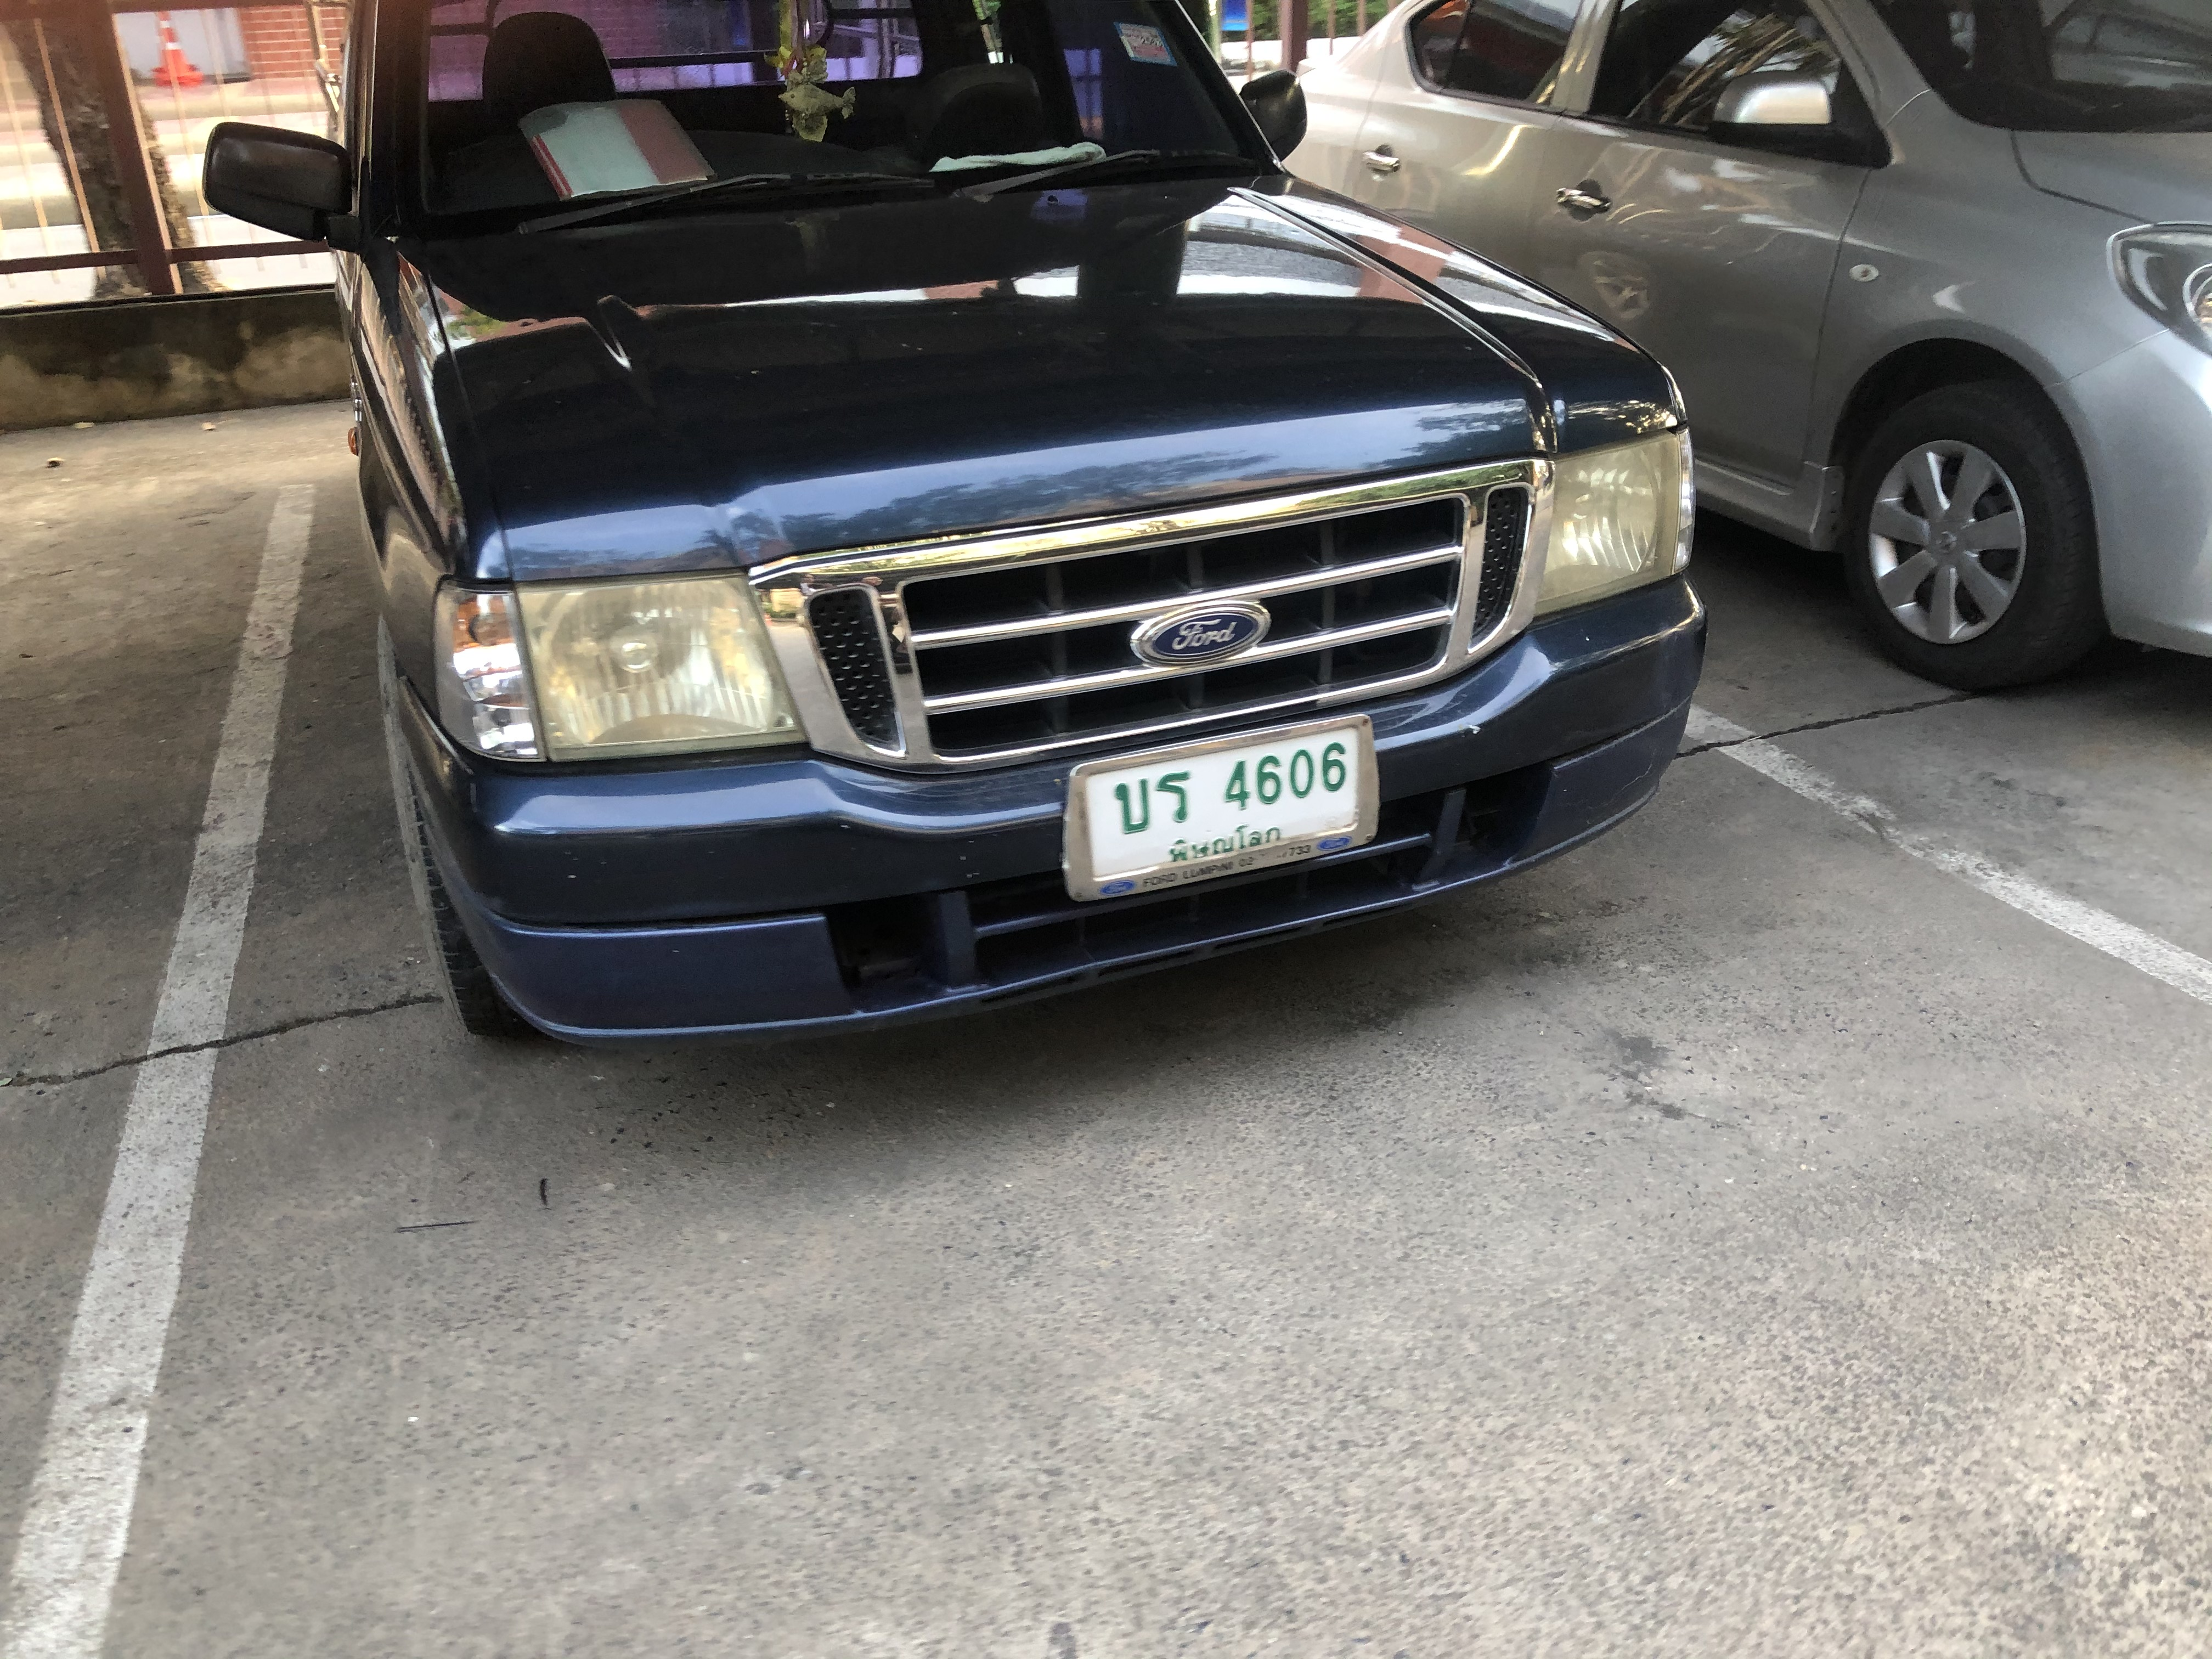in: (1083, 728, 1357, 878)
out: (1061, 713, 1383, 903)
